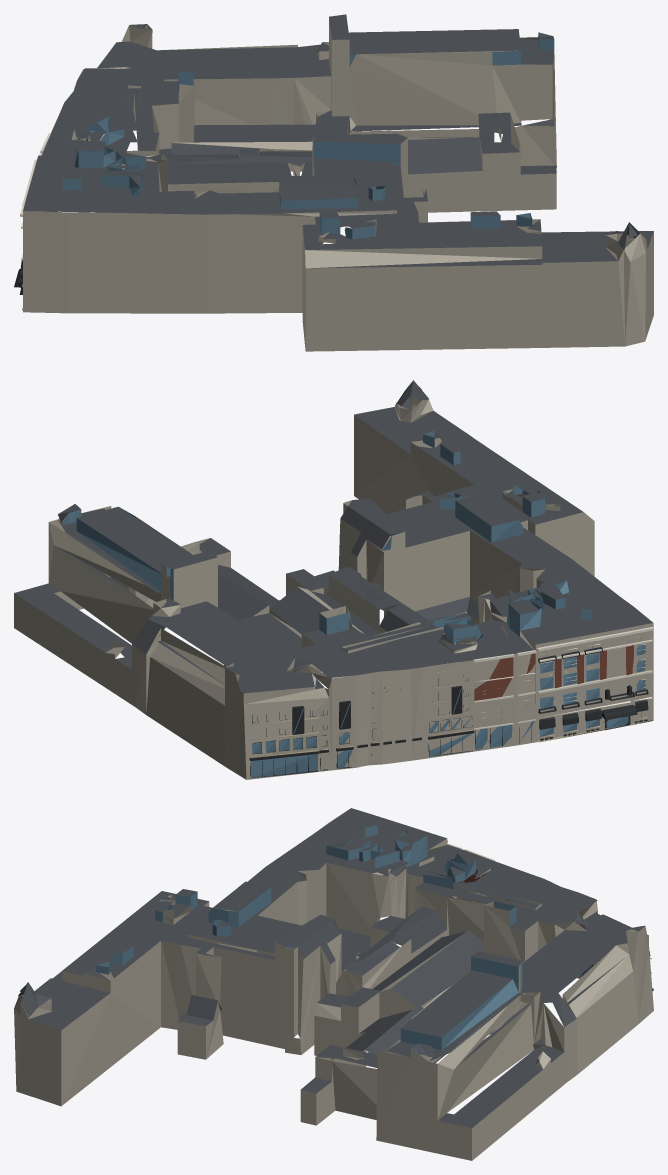
Rendered from krasnapolsky.lod1.glb.
3 renders of one model, top to bottom at view 1: azimuth 30°, elevation 25°; view 2: azimuth 150°, elevation 25°; view 3: azimuth 270°, elevation 25°, orthographic. The views are drawn at different scales.
Visible parts, largest first — view 1: krasnapolsky; view 2: krasnapolsky; view 3: krasnapolsky.
Part boxes in pixels (x1,y1,x2,y2): krasnapolsky: [14, 14, 653, 351]; krasnapolsky: [14, 380, 653, 779]; krasnapolsky: [14, 808, 653, 1160].
Bounding box in the file's own units: 134 × 27.55 × 138.
